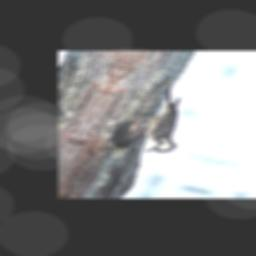Woodpecker: (113, 84, 209, 159)
